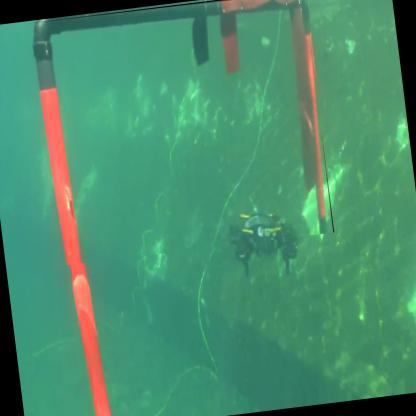gate: (26, 1, 337, 269)
